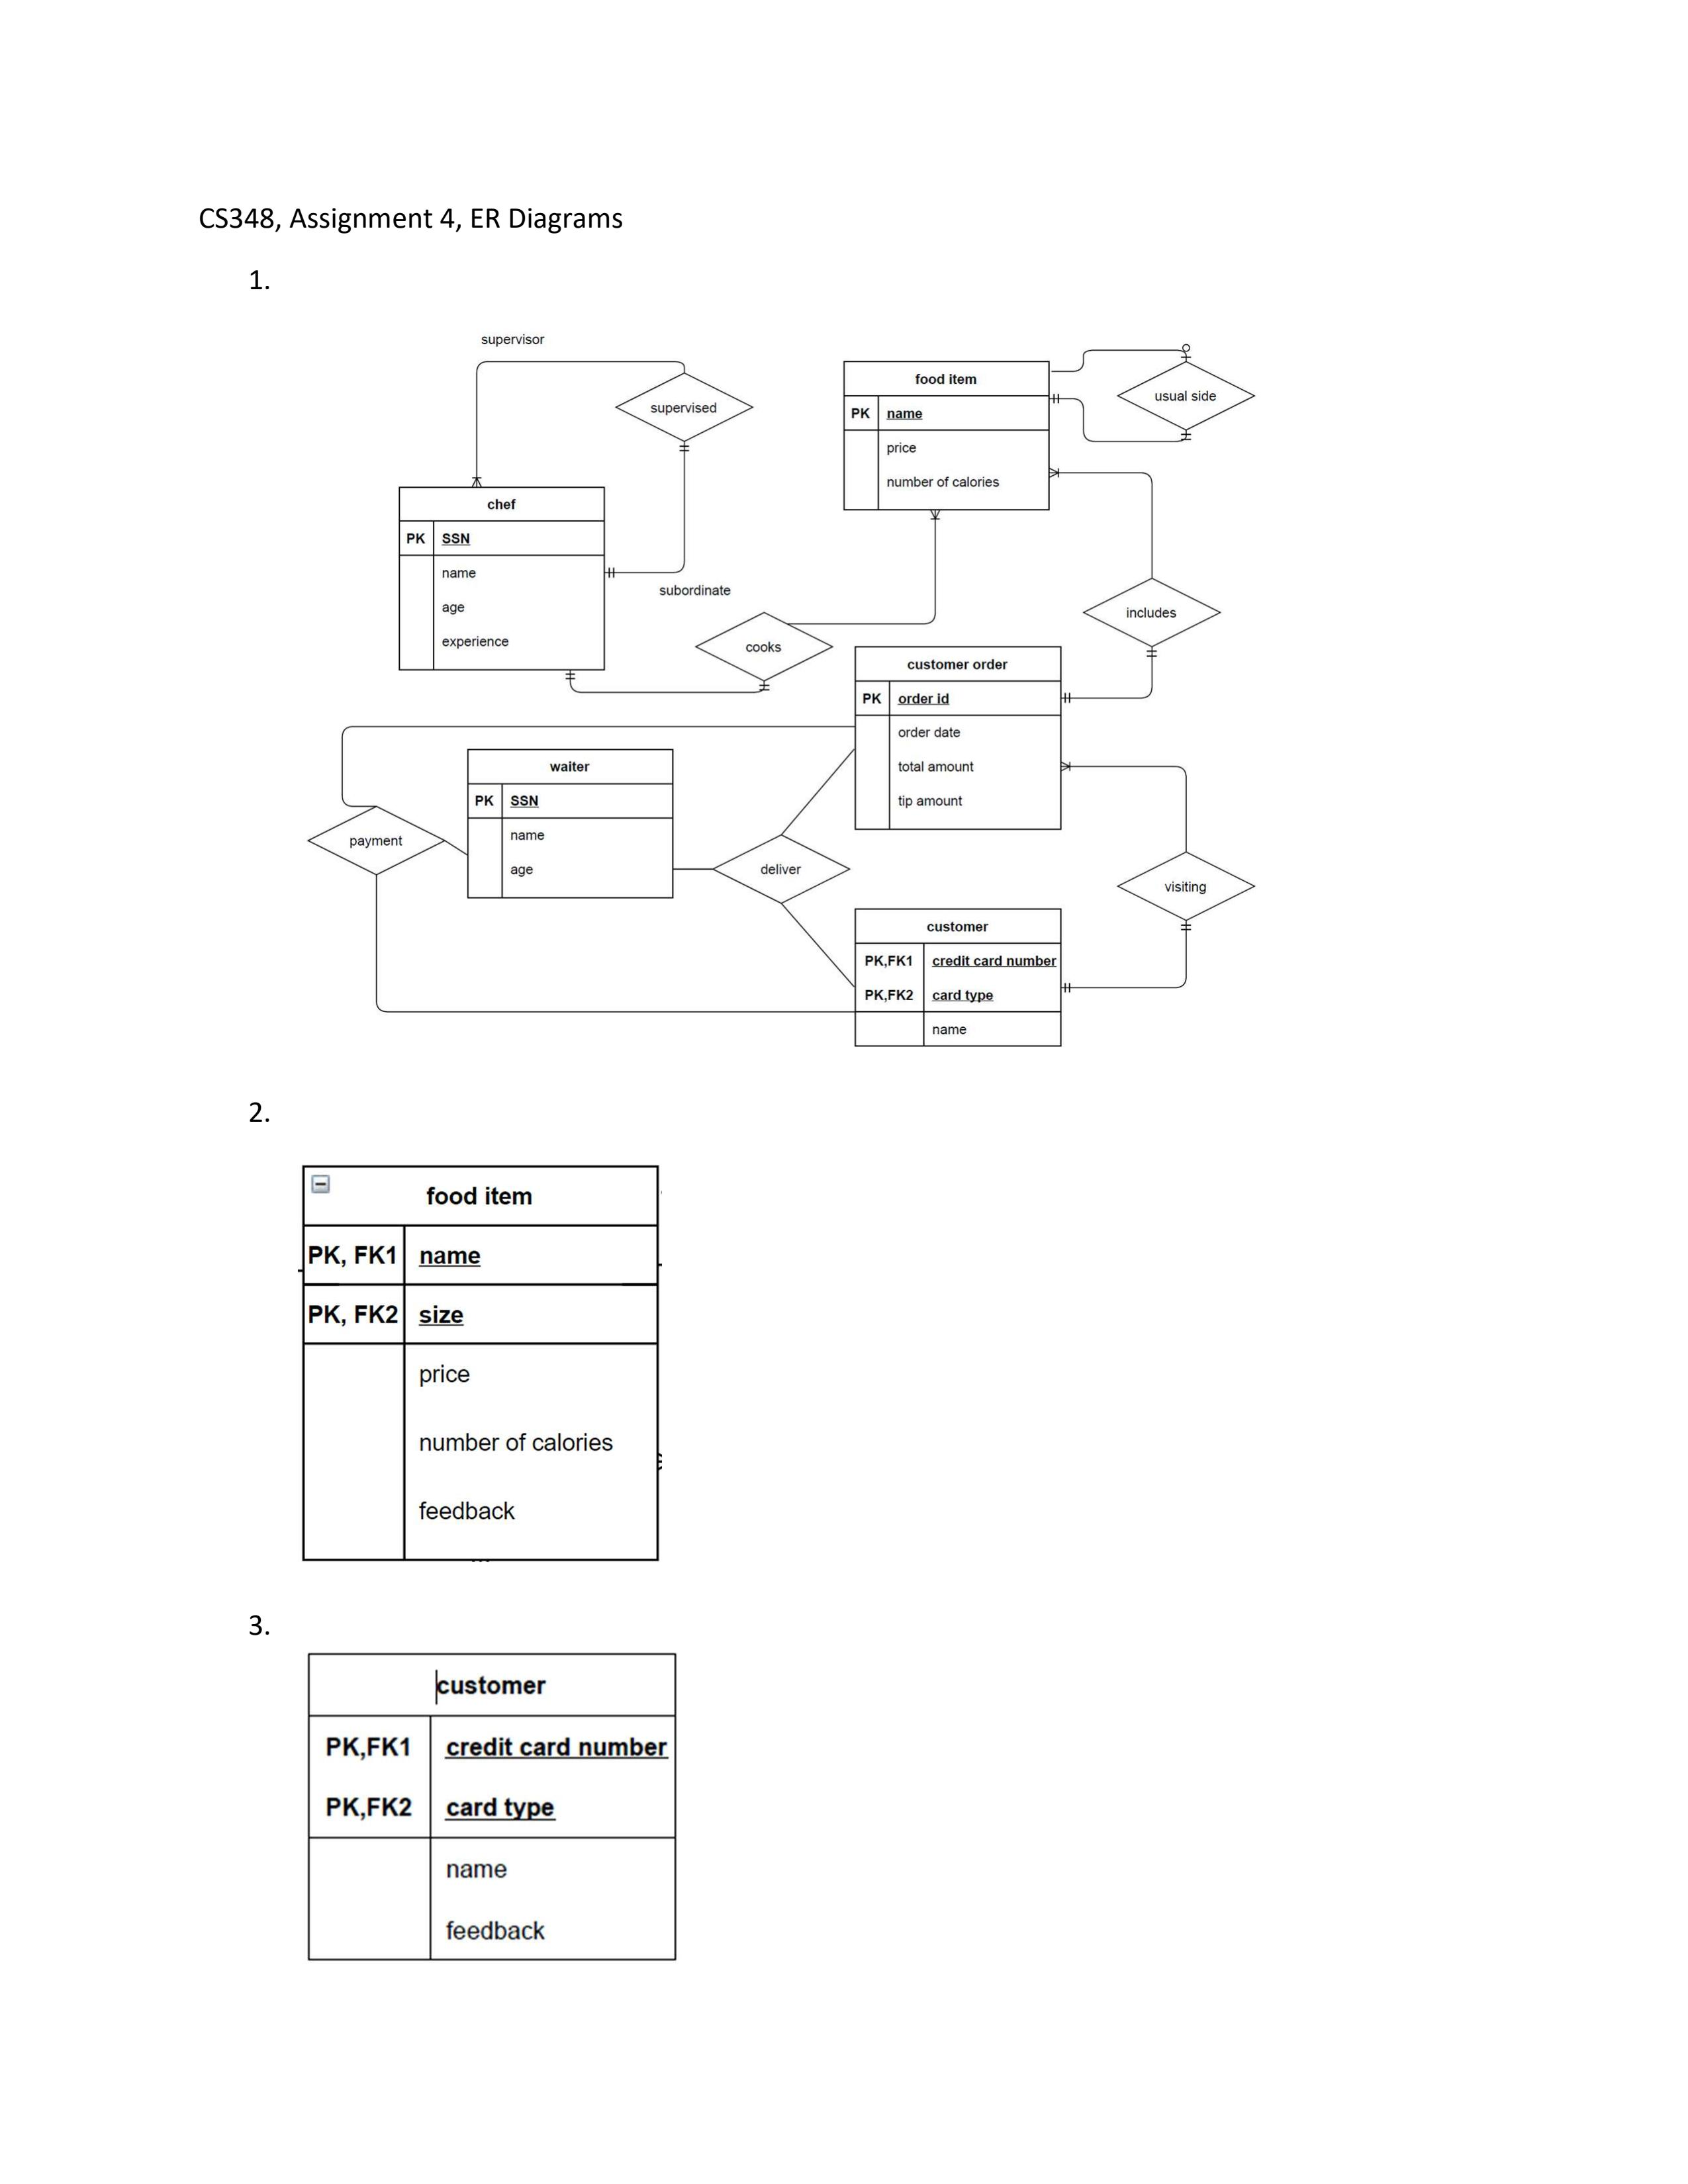Entity: (287, 1154, 670, 1578), (298, 1642, 688, 1978), (387, 473, 613, 679), (848, 638, 1067, 837), (830, 351, 1062, 519), (454, 741, 681, 909), (848, 904, 1067, 1053)
Relationship: (606, 362, 761, 447), (1106, 846, 1264, 927), (301, 798, 450, 881), (711, 830, 856, 911), (692, 603, 837, 684), (1114, 355, 1261, 434), (1082, 573, 1223, 652)
